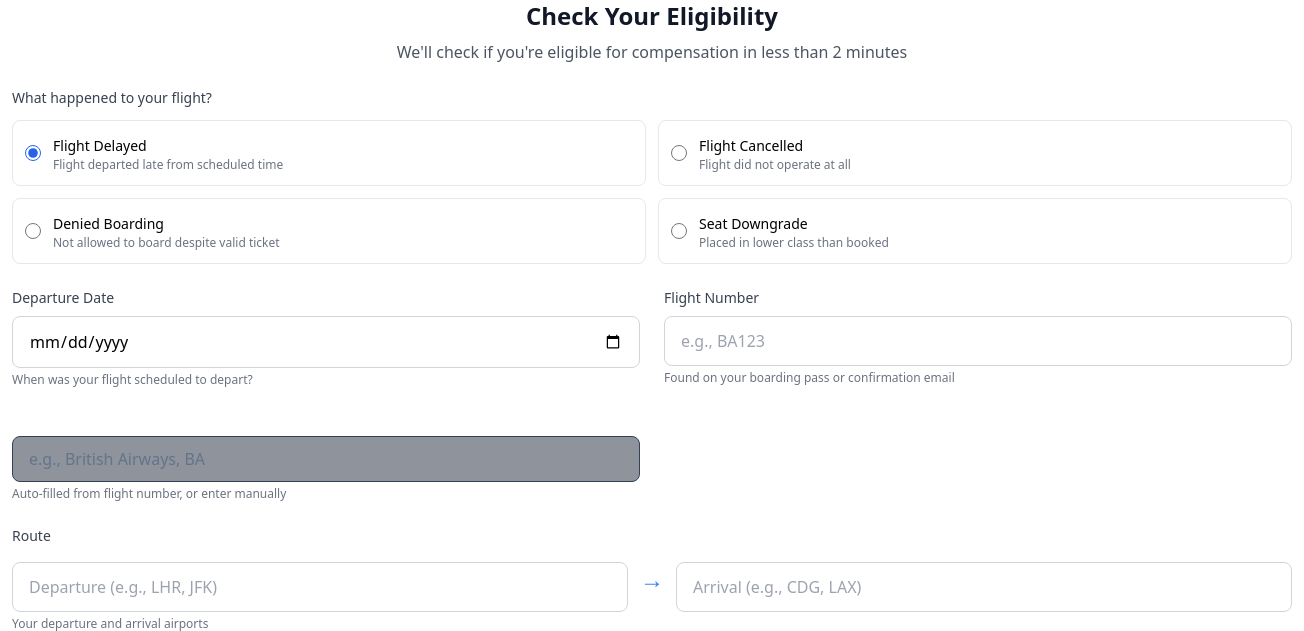
Test: FlightLookupForm - Collapsible Info Boxes › should collapse info box when clicked again
The image size is (1304, 631).
Step 1. Click the radio button labelled "Flight Cancelled Flight did not operate at all" → coordinates (679, 153), box x1=671 y1=145 x2=687 y2=161
(page scrolled)
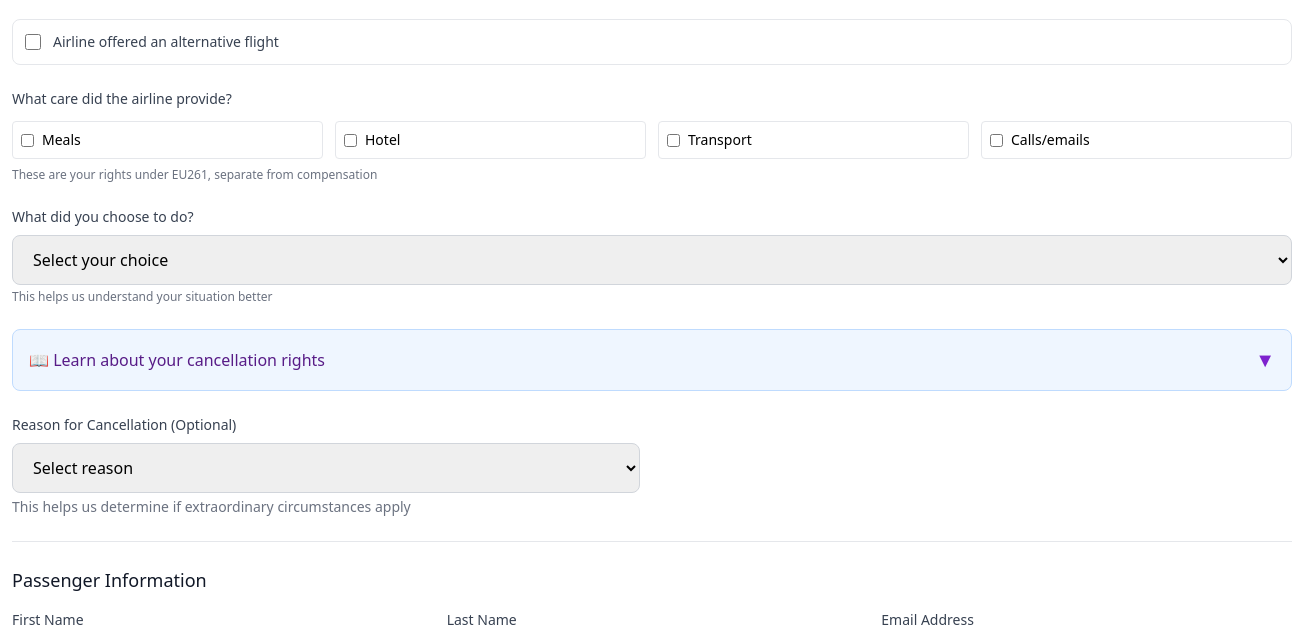
Step 2. Click the text "📖 Learn about your cancellation rights" → coordinates (177, 360), box x1=29 y1=348 x2=325 y2=372
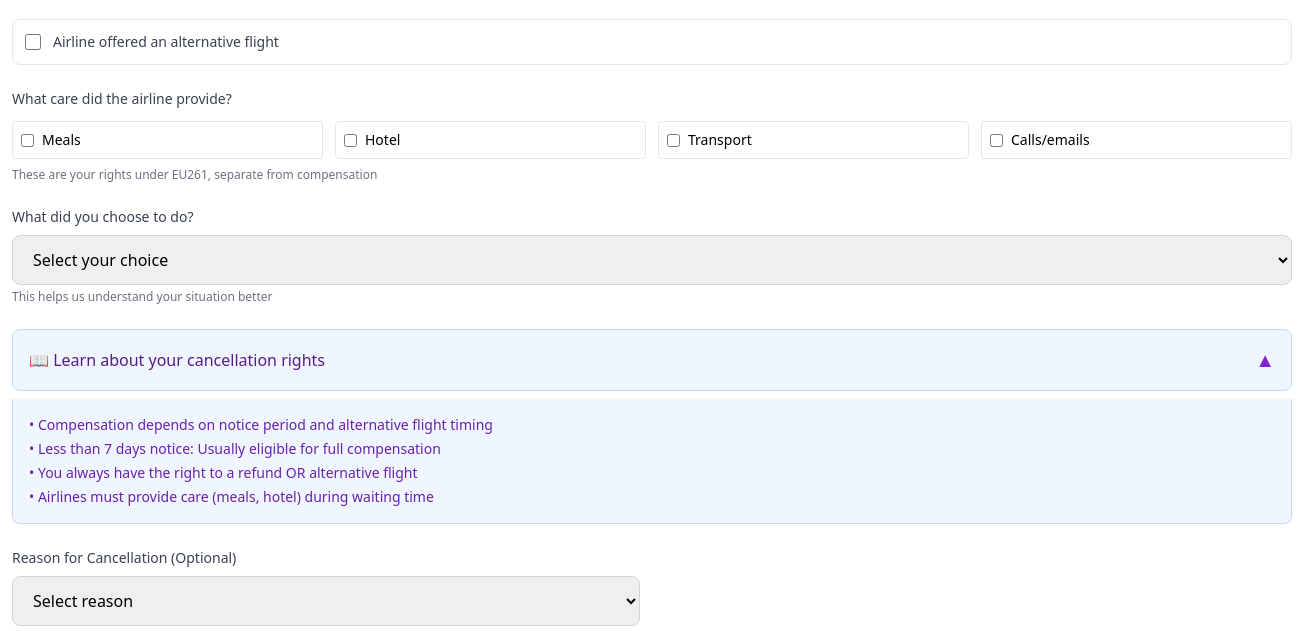
Check: the list item "Less than 7 days notice" is shown, box x1=29 y1=439 x2=441 y2=458
Step 3. Click the text "📖 Learn about your cancellation rights" → coordinates (177, 360), box x1=29 y1=348 x2=325 y2=372
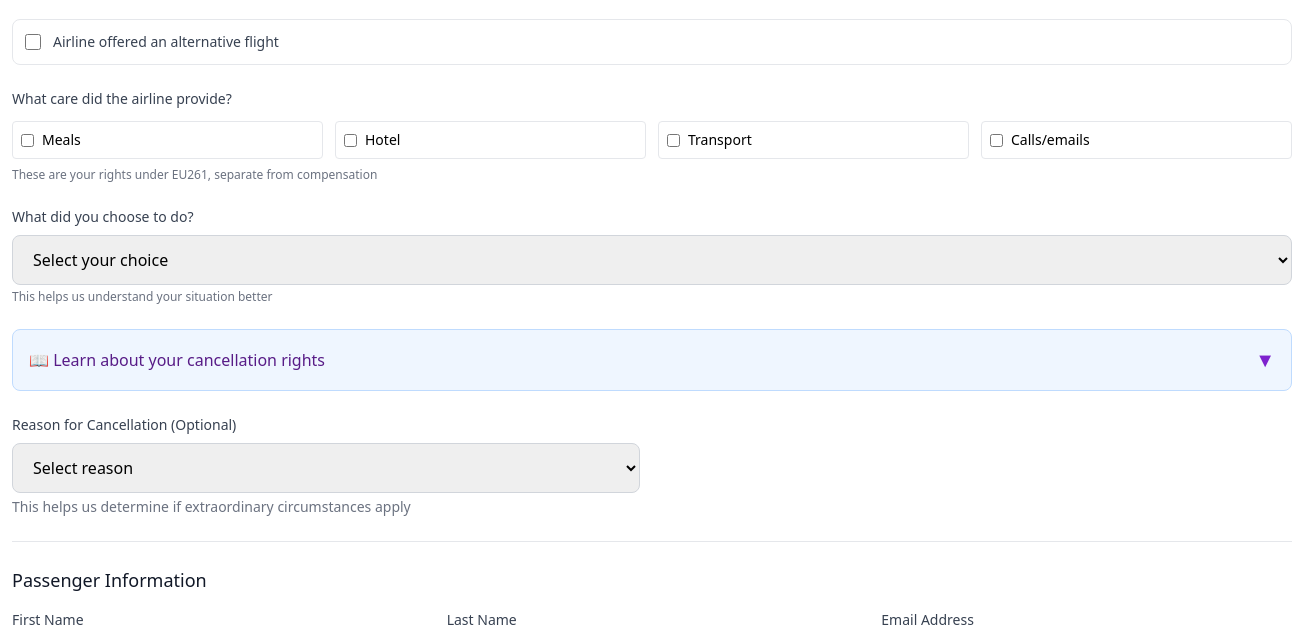
Check: the list item "Less than 7 days notice" is gone
